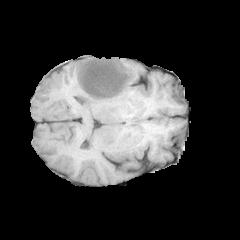glioma: (69, 57, 136, 106)
